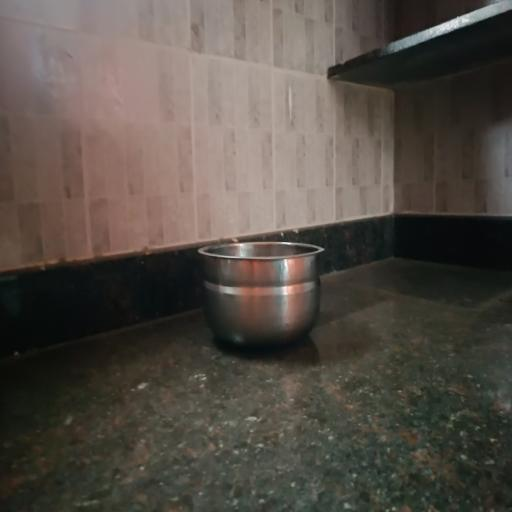vessel: (198, 242, 324, 347)
